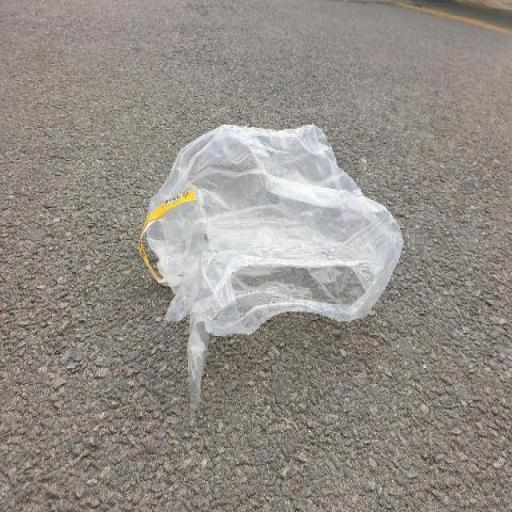plastic-bag: (137, 120, 407, 421)
